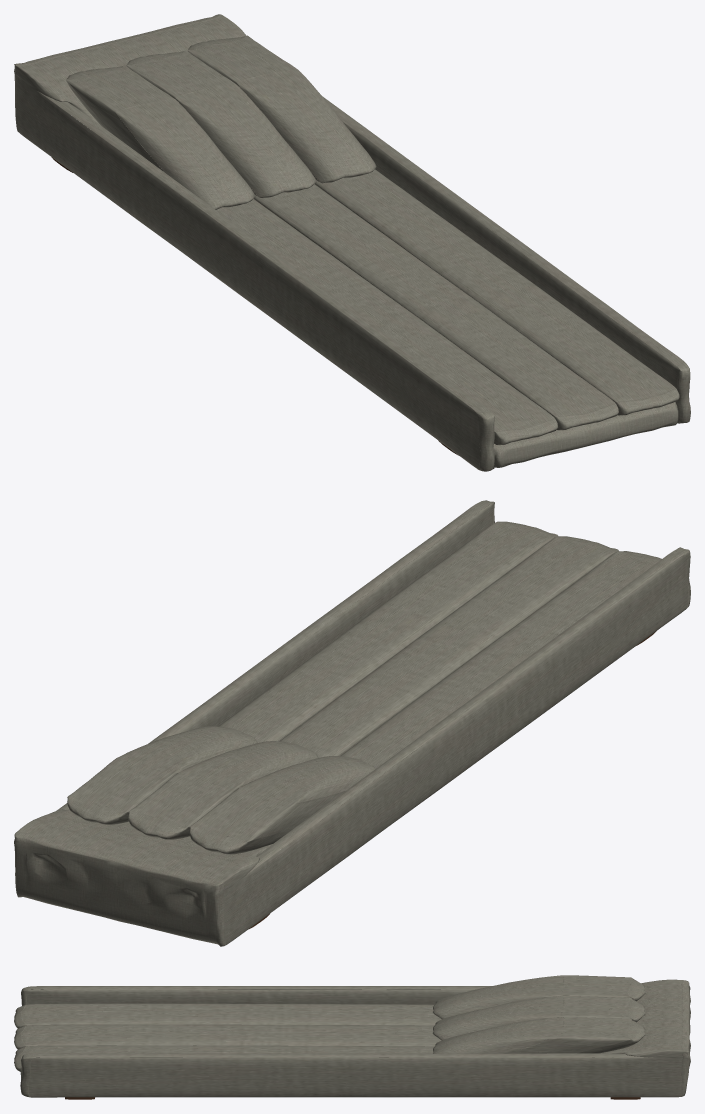
3 renders of one model, top to bottom at view 1: azimuth 30°, elevation 25°; view 2: azimuth 150°, elevation 25°; view 3: azimuth 270°, elevation 25°, orthographic. The views are drawn at different scales.
Visible parts, largest first — view 1: id_feature-DXL0nd_variant-J6DMxX; view 2: id_feature-DXL0nd_variant-J6DMxX; view 3: id_feature-DXL0nd_variant-J6DMxX.
Boxes of the visible parts, x1,y1,x2,y2 form: id_feature-DXL0nd_variant-J6DMxX: (14,14,690,471); id_feature-DXL0nd_variant-J6DMxX: (14,500,690,946); id_feature-DXL0nd_variant-J6DMxX: (14,975,690,1099).
Size of the model in its own units: 1.35 by 0.5114 by 5.29.
1 material, 1 textured.
